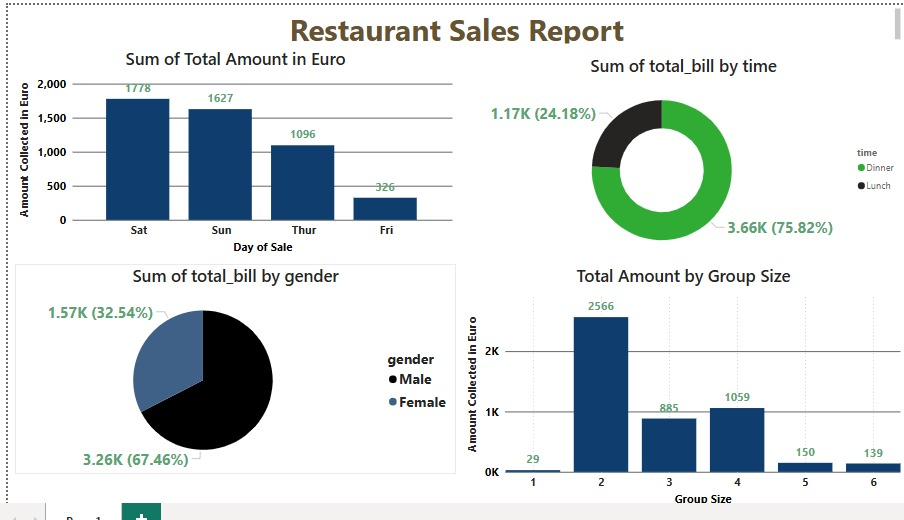

The dashboard page shown, as its layout file describes it:
{"tool":"powerbi","page":{"name":"Page 1","canvas":[1280,720],"ordinal":0},"visuals":[{"type":"textbox","box":[10,0,1270,60],"z":0},{"type":"columnChart","title":"Sum of Total Amount in Euro","fields":{"Category":["tips.day"],"Y":["Sum(tips.total_bill)"]},"box":[10,60,630,300],"z":1},{"type":"pieChart","fields":{"Category":["tips.gender"],"Y":["Sum(tips.total_bill)"]},"box":[10,370,630,300],"z":2},{"type":"donutChart","fields":{"Y":["Sum(tips.total_bill)"],"Category":["tips.time"]},"box":[650,70,630,300],"z":3},{"type":"columnChart","title":"Total Amount by Group Size ","fields":{"Y":["Sum(tips.total_bill)"],"Category":["tips.size"]},"box":[650,370,630,350],"z":4}]}

Visuals, with their boxes in screenshot pixels (x1, y1, x2, y2), scaled from the page's 1280x720 canvas onto the 904x520 screenshot:
textbox: bbox=[7, 0, 903, 43]
"Sum of Total Amount in Euro" columnChart: bbox=[7, 43, 452, 260]
pieChart - tips.gender x Sum(tips.total_bill): bbox=[7, 267, 452, 484]
donutChart - Sum(tips.total_bill) x tips.time: bbox=[459, 51, 903, 267]
"Total Amount by Group Size " columnChart: bbox=[459, 267, 903, 519]
